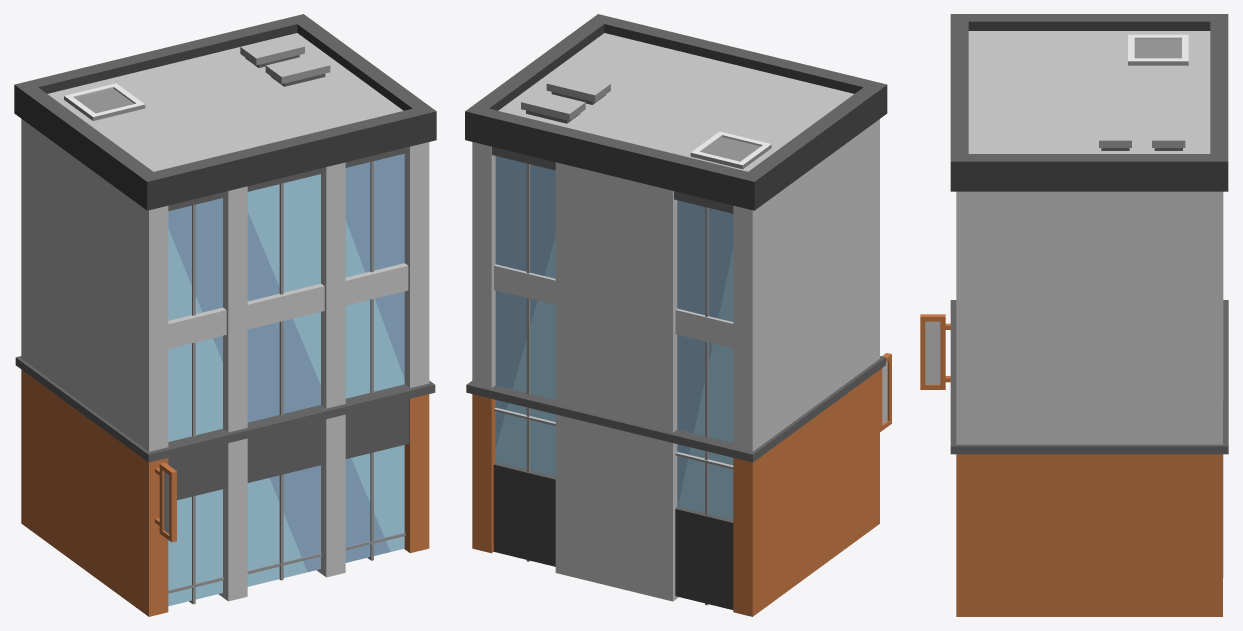
Rendered from hotel_007.fbx.
3 views of the same model, side by side, from view 1: azimuth 30°, elevation 25°; view 2: azimuth 150°, elevation 25°; view 3: azimuth 270°, elevation 25° (orthographic). The views are drawn at different scales.
Visible parts, largest first — view 1: hotel_007; view 2: hotel_007; view 3: hotel_007.
Boxes of the visible parts, bbox=[...] form: hotel_007: bbox=[14, 14, 436, 616]; hotel_007: bbox=[465, 14, 891, 616]; hotel_007: bbox=[920, 14, 1228, 616].
Size of the model in its own units: 597 by 876 by 527.
